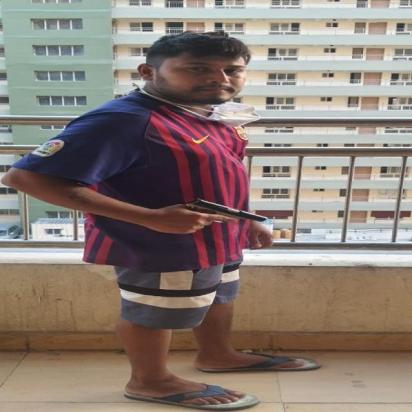Gun: (161, 197, 275, 234)
